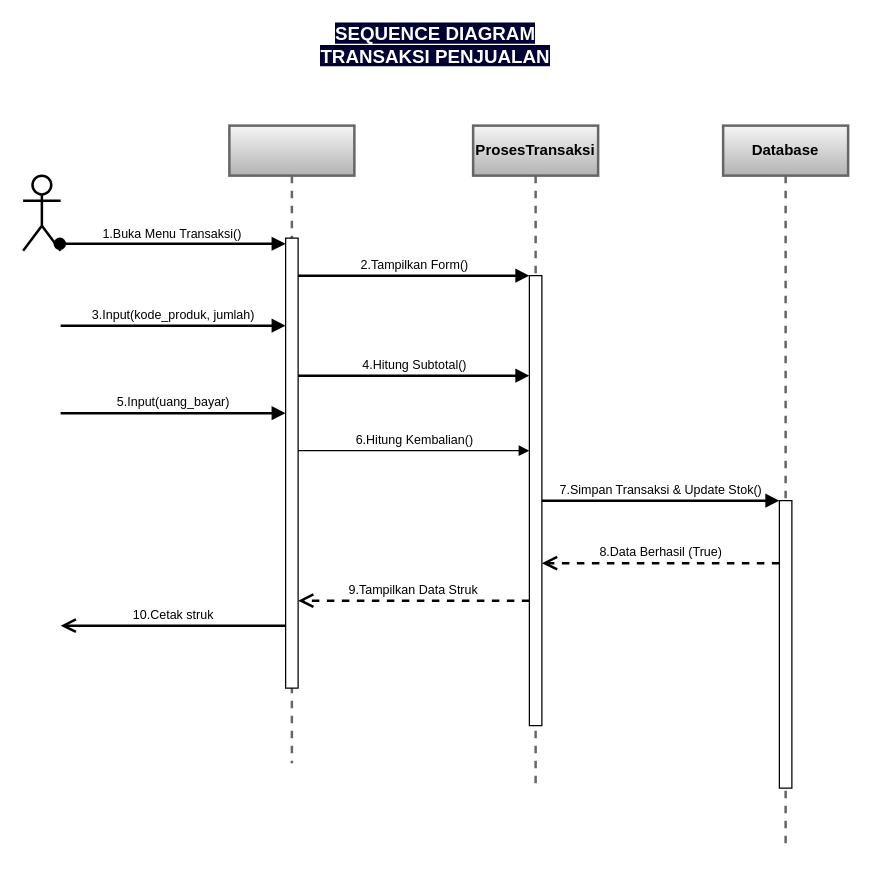
The diagram is 870 pixels wide and 873 high, and some of its shapes have lost their labels. Here are the shapes that lost their labels. From the top down, the box of each, then its label:
(21, 174, 61, 251): Kasir
(228, 124, 355, 764): FormTransaksi
